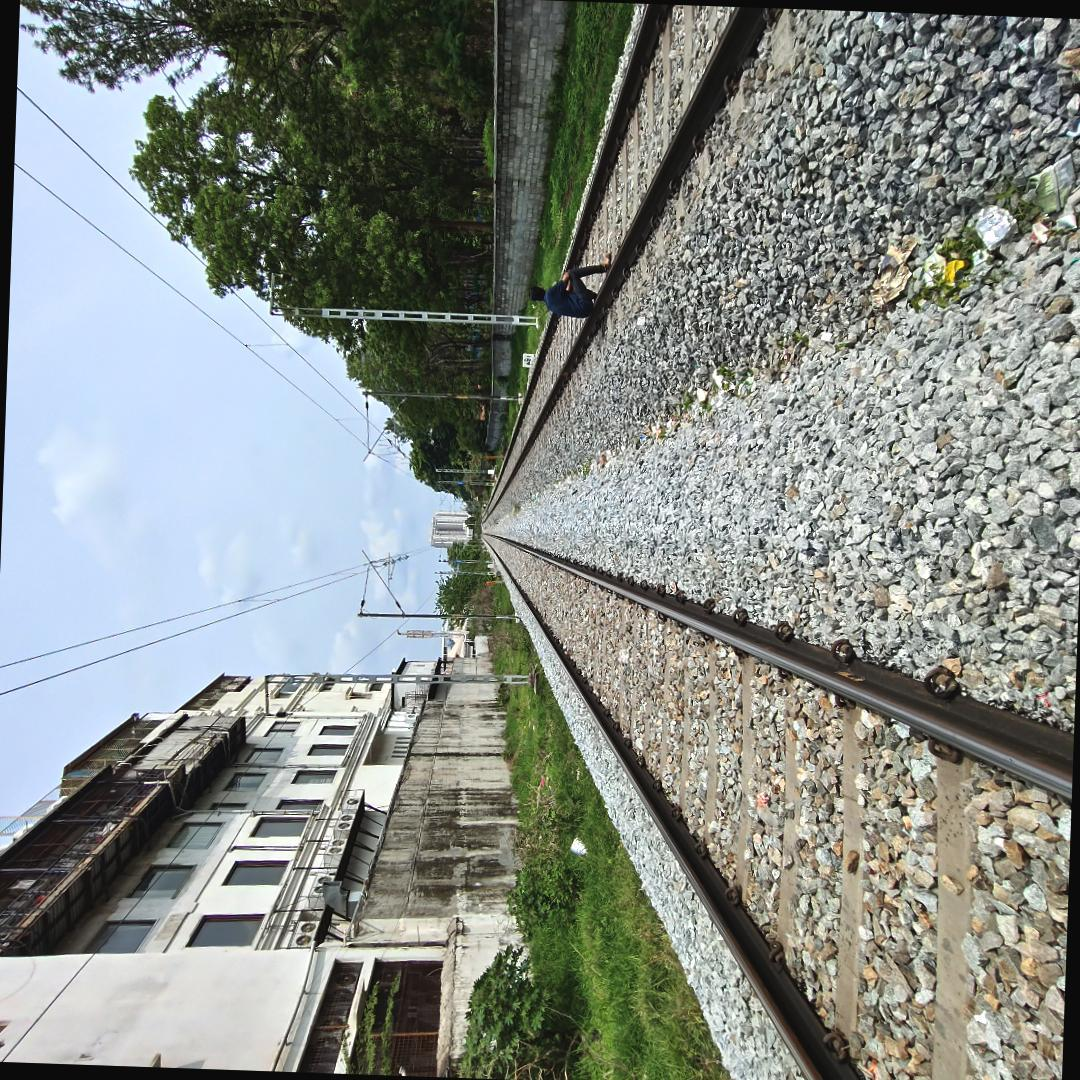sitting: (523, 243, 618, 329)
track: (468, 2, 806, 528)
